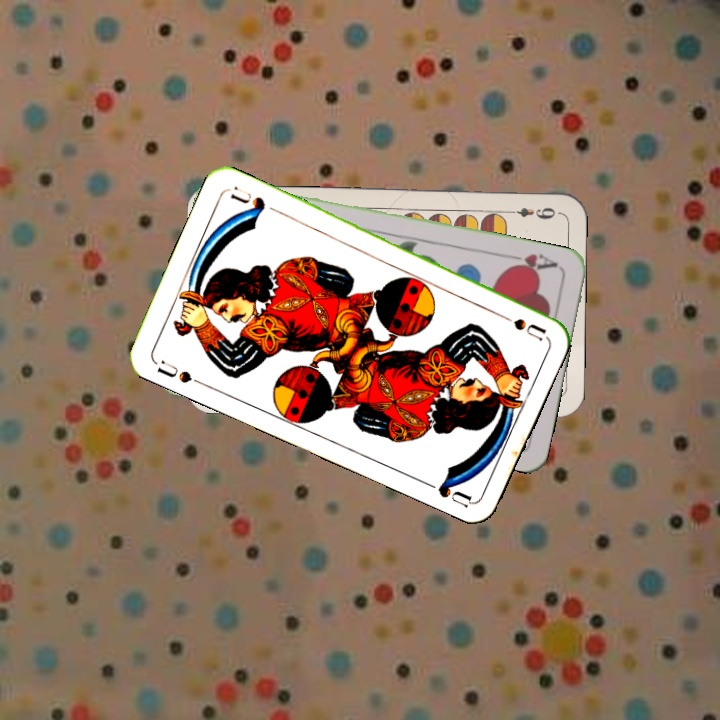E9: (502, 203, 561, 222)
HA: (503, 249, 560, 276)
SU: (490, 307, 548, 342), (153, 356, 194, 386)
